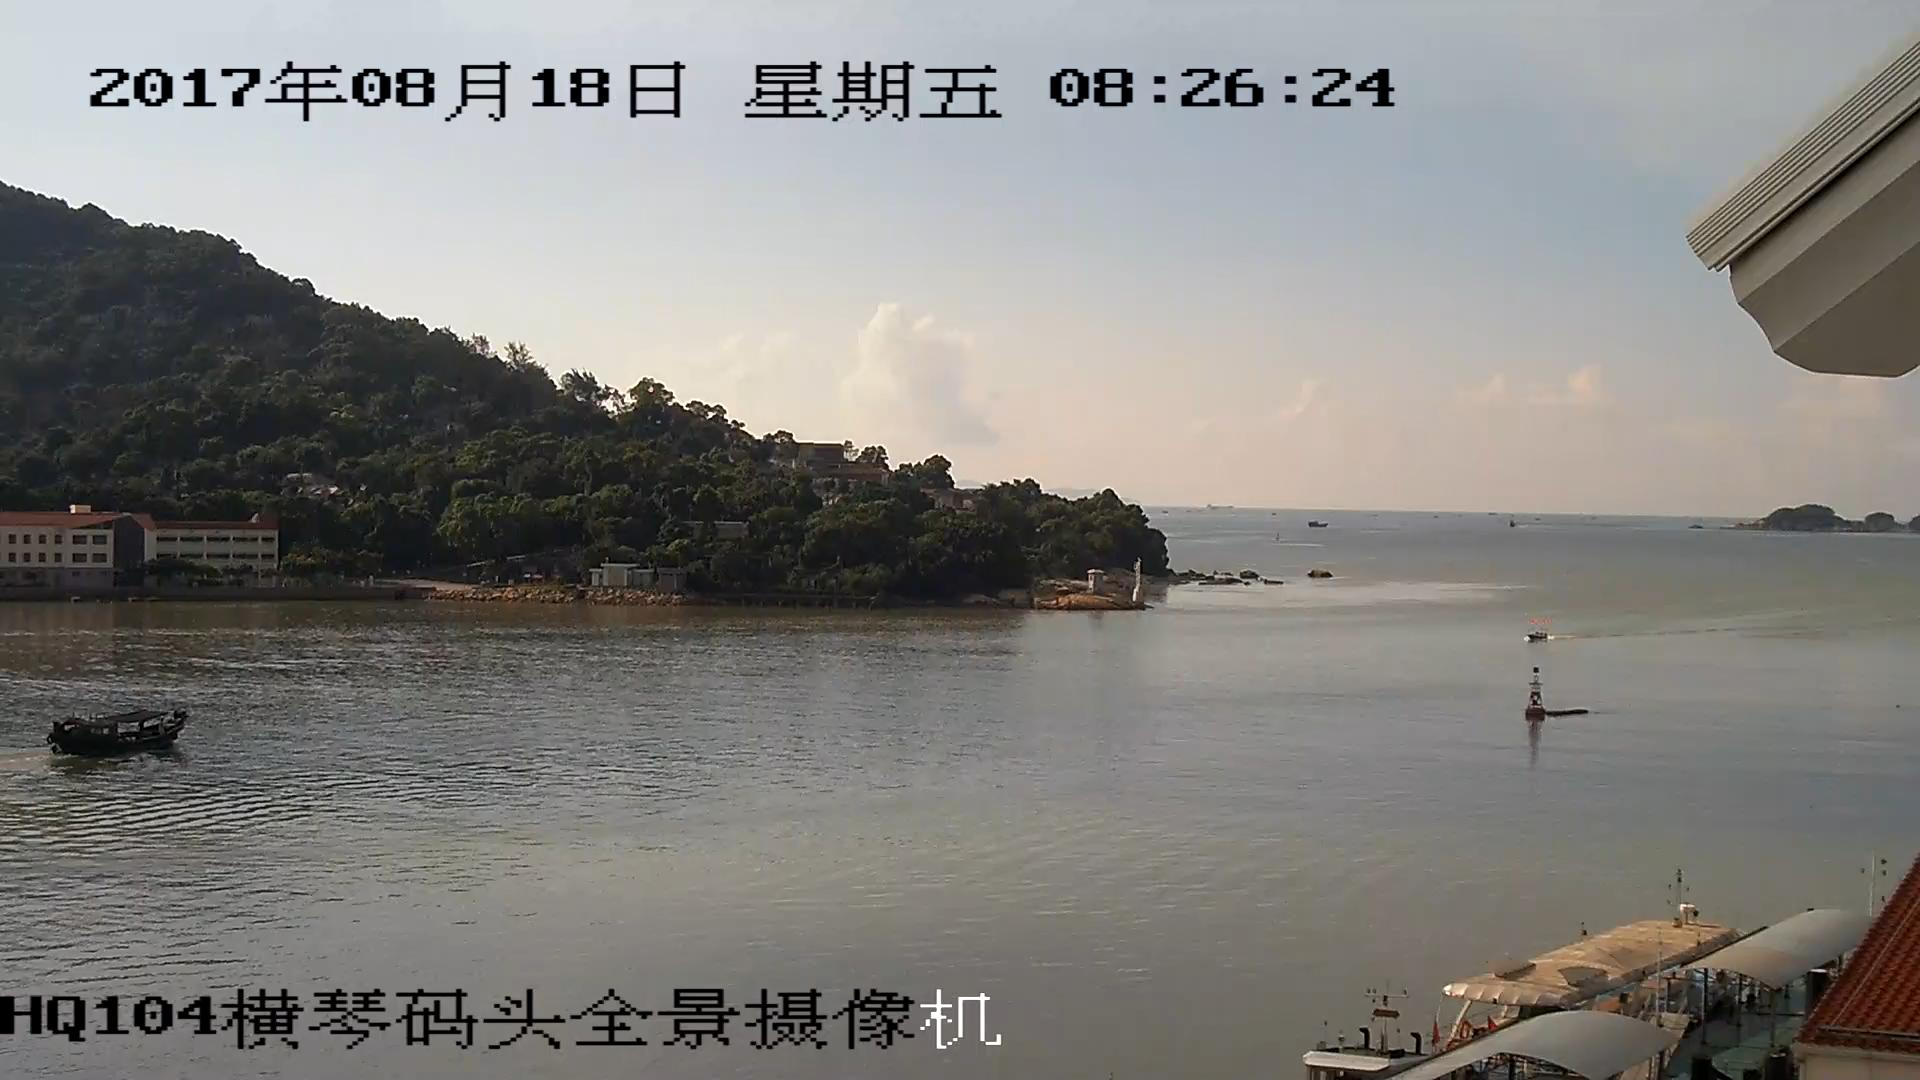fishing boat: (52, 710, 188, 751)
